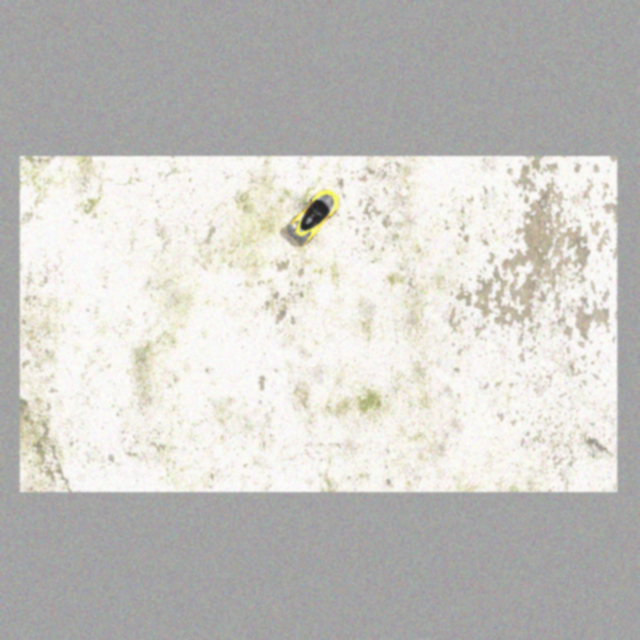car: (283, 181, 346, 249)
